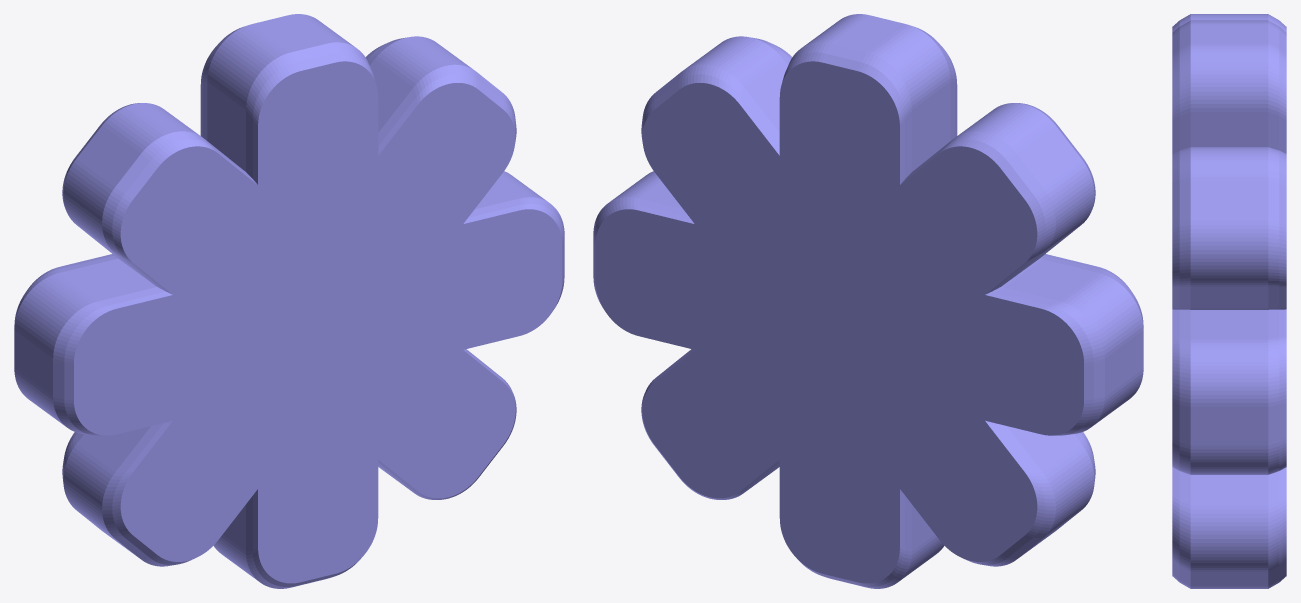
Rendered from hero-asterisk.glb.
3 views of the same model, side by side, from view 1: azimuth 30°, elevation 25°; view 2: azimuth 150°, elevation 25°; view 3: azimuth 270°, elevation 25° (orthographic).
Parts seen in each view (by area): view 1: AsteriskShape; view 2: AsteriskShape; view 3: AsteriskShape.
Part boxes in pixels (x1,y1,x2,y2): AsteriskShape: [14, 14, 564, 588]; AsteriskShape: [593, 14, 1143, 588]; AsteriskShape: [1172, 14, 1286, 588].
Bounding box in the file's own units: 3.2 × 3.2 × 0.62.
